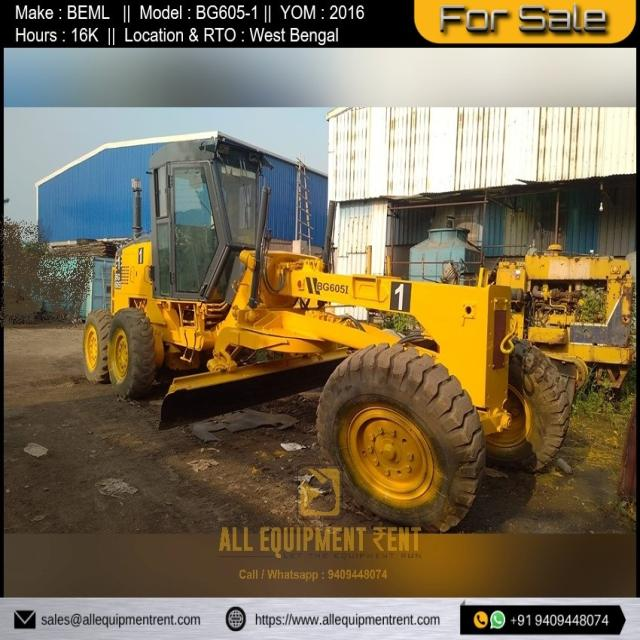buldozerpayloadergrader: (92, 131, 563, 527)
